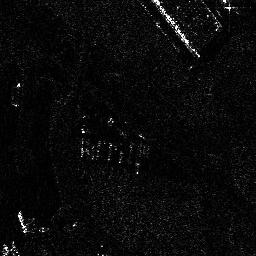ship: (15, 208, 28, 233)
